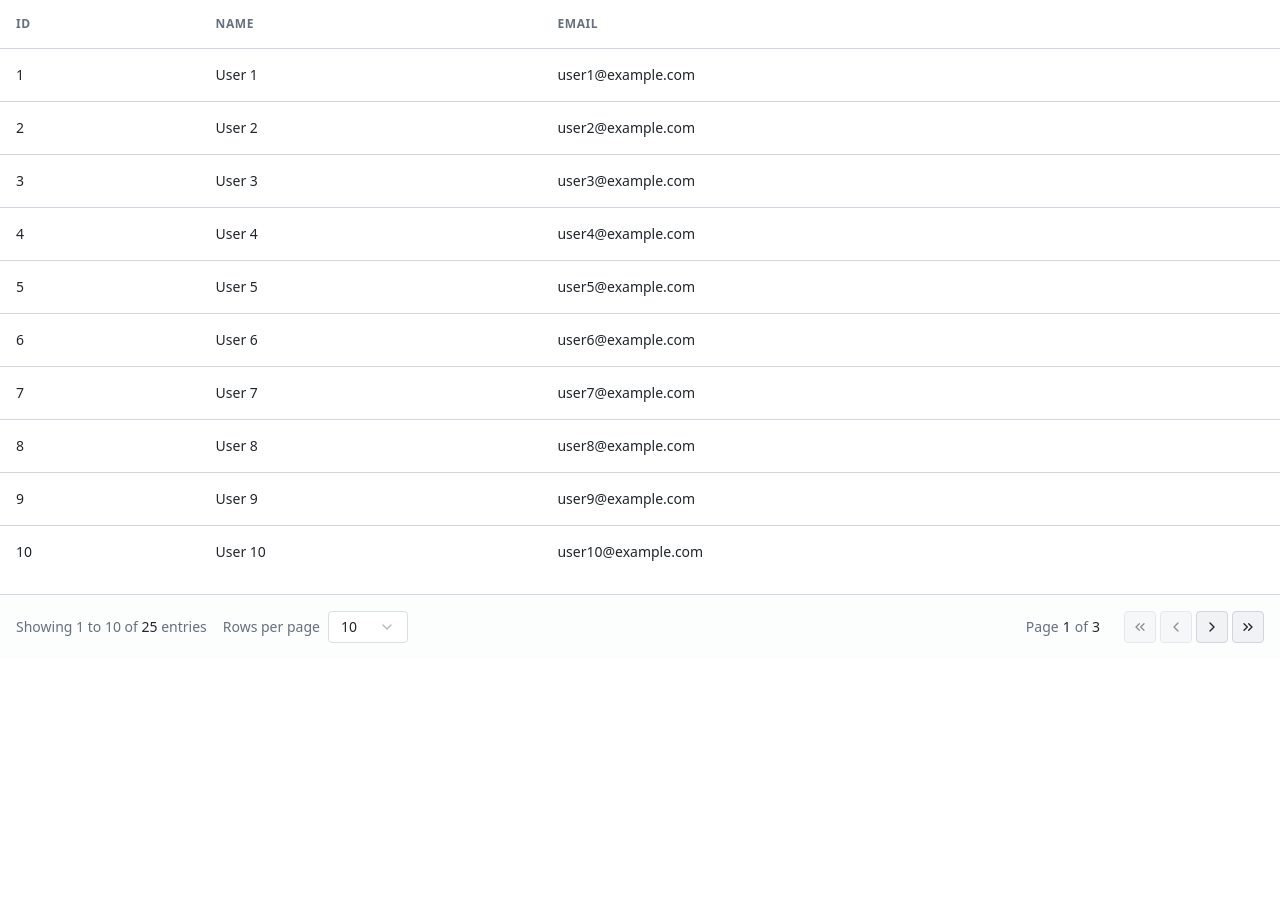
Scenario: DataTable › can navigate to last page
Click the 4th button named "go to last page".
click(1248, 626)  # box [1232, 610, 1264, 642]
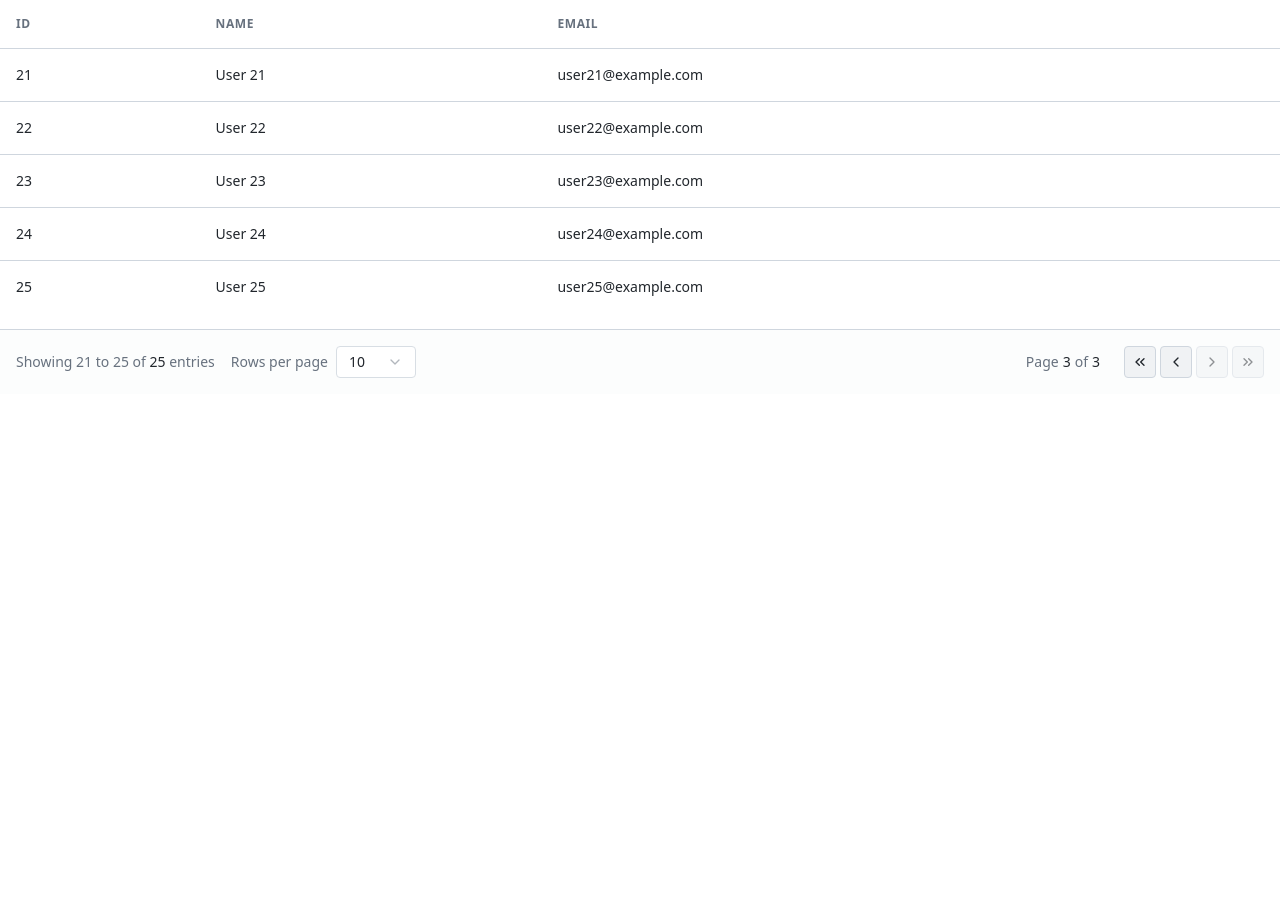
Check: the text "User 25" is shown, box [200, 260, 541, 312]
